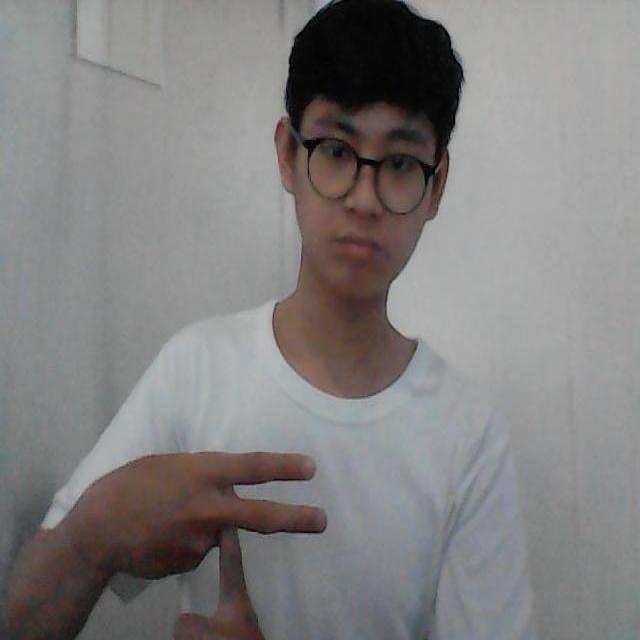F: (99, 414, 338, 640)
